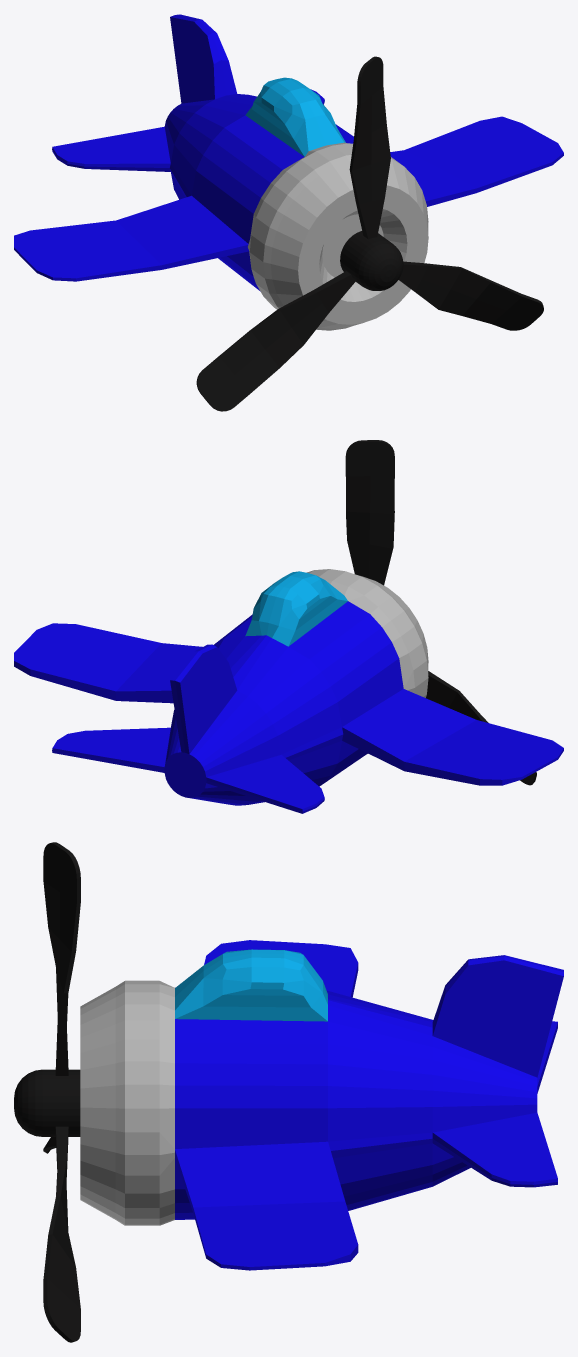
File: airplane.glb
3 renders of one model, top to bottom at view 1: azimuth 30°, elevation 25°; view 2: azimuth 150°, elevation 25°; view 3: azimuth 270°, elevation 25°, orthographic. The views are drawn at different scales.
Visible parts, largest first — view 1: Cylinder, Cylinder.002; view 2: Cylinder, Cylinder.002; view 3: Cylinder, Cylinder.002.
Boxes of the visible parts, bbox=[...] form: Cylinder: bbox=[14, 14, 563, 330]; Cylinder.002: bbox=[196, 56, 543, 411]; Cylinder: bbox=[14, 569, 563, 813]; Cylinder.002: bbox=[345, 440, 536, 785]; Cylinder: bbox=[80, 940, 563, 1270]; Cylinder.002: bbox=[14, 842, 80, 1342].
Bounding box in the file's own units: 6.99 × 3.97 × 4.97.
